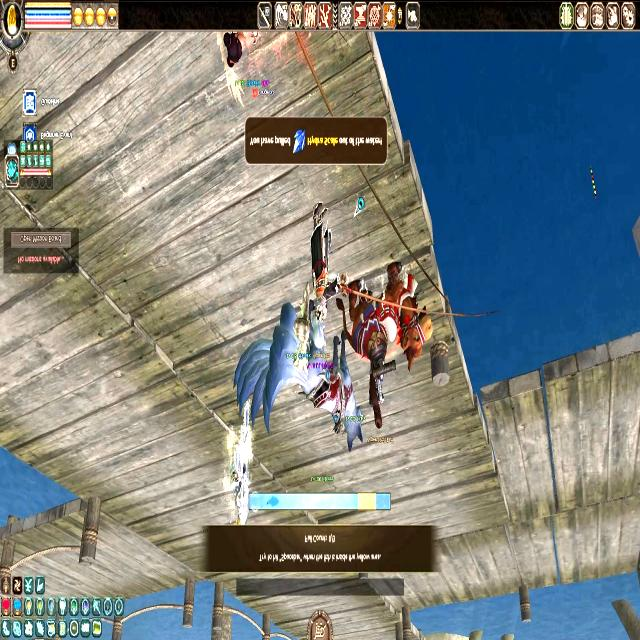fishes: (266, 495, 279, 508)
